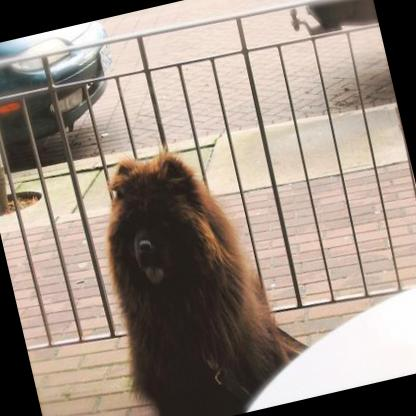chow: (76, 121, 322, 416)
